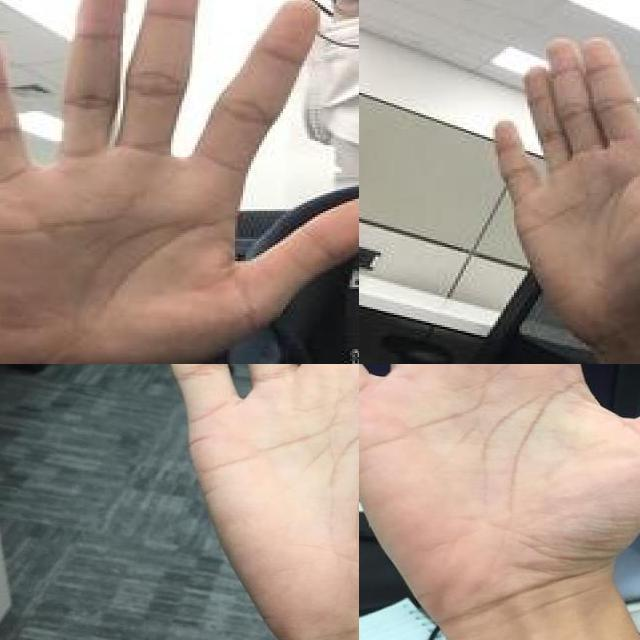hand: (0, 0, 359, 364), (359, 364, 640, 621), (158, 364, 359, 640), (490, 35, 640, 339)
